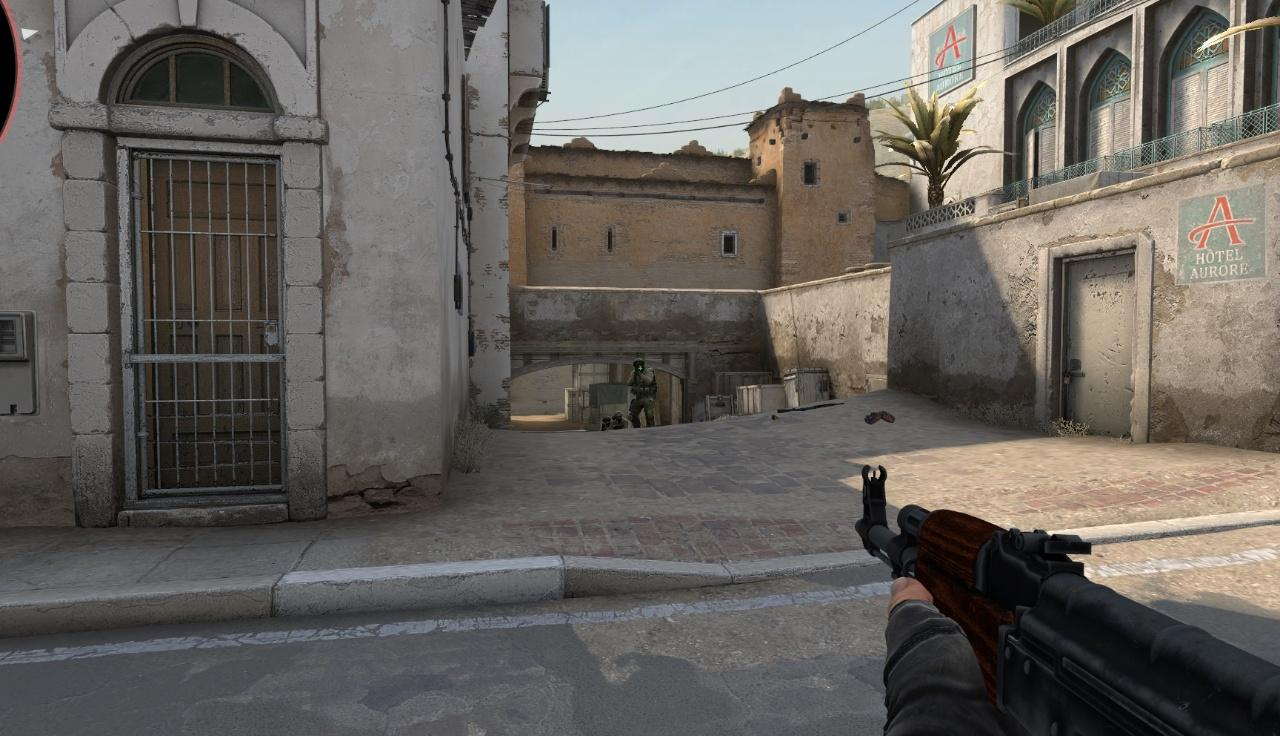ct: (627, 358, 656, 428), (610, 412, 628, 429)
cthead: (633, 359, 645, 371), (614, 412, 622, 422), (604, 417, 610, 424)
rifle: (856, 462, 1280, 736)
